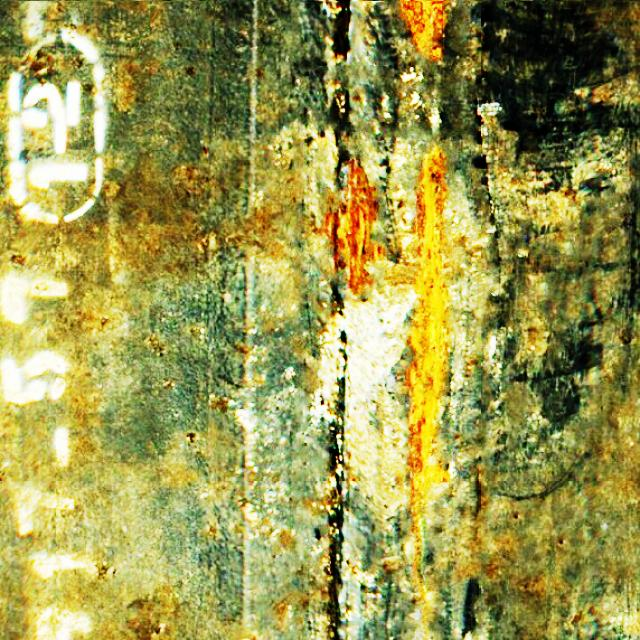Corrosion: (407, 148, 452, 602), (321, 154, 385, 302), (401, 1, 448, 56)
